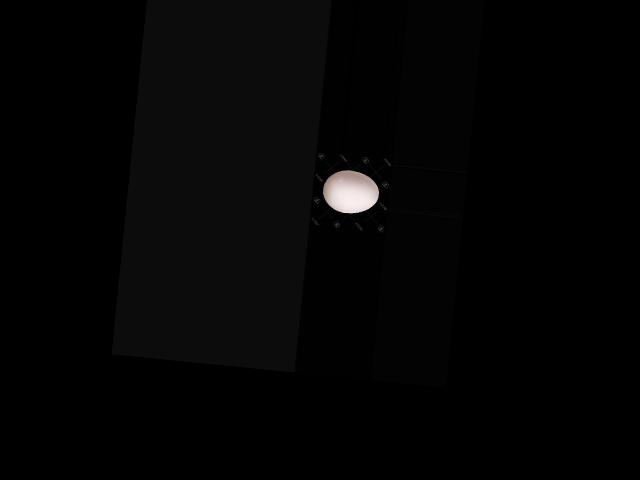egg: (321, 168, 380, 216)
